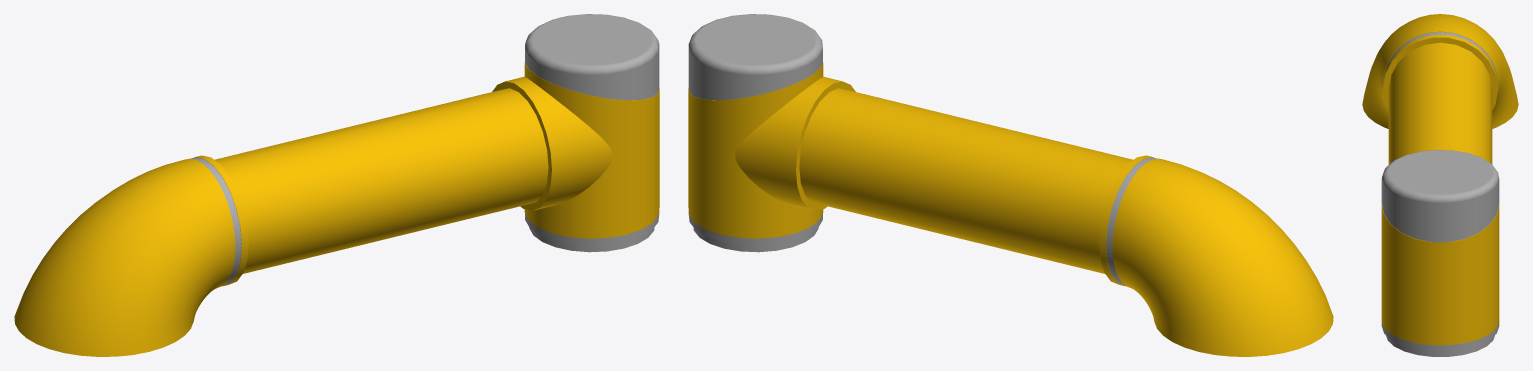
3 views of the same model, side by side, from view 1: azimuth 30°, elevation 25°; view 2: azimuth 150°, elevation 25°; view 3: azimuth 270°, elevation 25° (orthographic). The views are drawn at different scales.
Parts seen in each view (by area): view 1: FBXASC195FBXASC135FBXASC195FBXASC144FBXASC194FBXASC179FBXASC; view 2: FBXASC195FBXASC135FBXASC195FBXASC144FBXASC194FBXASC179FBXASC; view 3: FBXASC195FBXASC135FBXASC195FBXASC144FBXASC194FBXASC179FBXASC.
Part boxes in pixels (left/top/right/bottom): FBXASC195FBXASC135FBXASC195FBXASC144FBXASC194FBXASC179FBXASC: left=14, top=14, right=659, bottom=356; FBXASC195FBXASC135FBXASC195FBXASC144FBXASC194FBXASC179FBXASC: left=688, top=14, right=1333, bottom=356; FBXASC195FBXASC135FBXASC195FBXASC144FBXASC194FBXASC179FBXASC: left=1362, top=14, right=1518, bottom=356.
Bounding box in the file's own units: 0.473 × 0.1345 × 0.118.
